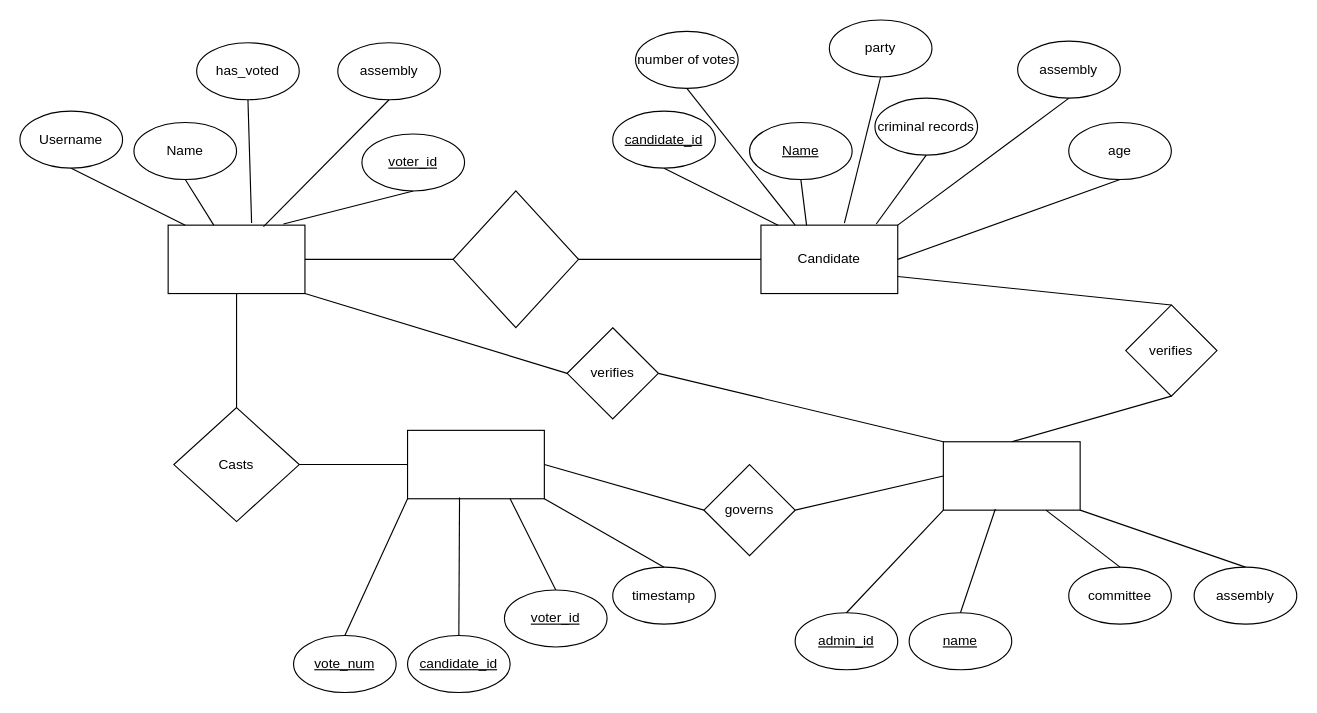
Some shapes in this 1317 by 713 pixel diagram are drawn without their labels. Each missing label, with the box of its shape:
Administrator: (942, 441, 1080, 510)
Vote: (406, 429, 544, 499)
Voter: (167, 224, 305, 294)
Votes for: (452, 190, 579, 328)
